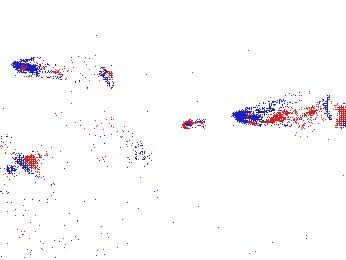X-ray fish: (71, 112, 148, 168)
red belly glassfish: (182, 114, 222, 131)
redtail glassfish: (233, 89, 335, 128), (11, 56, 118, 91)
